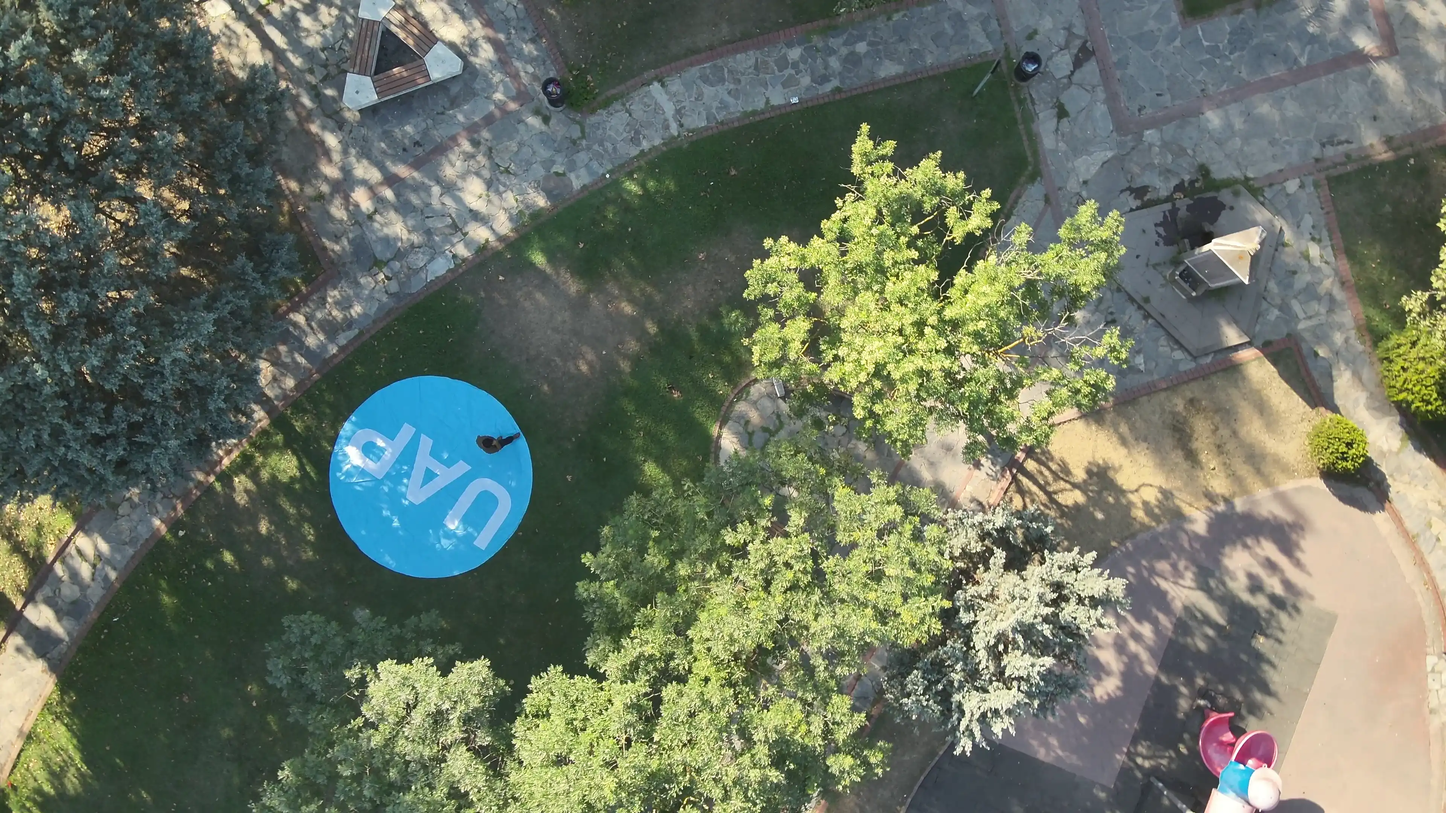UAP: (326, 374, 538, 580)
person: (473, 424, 528, 458)
